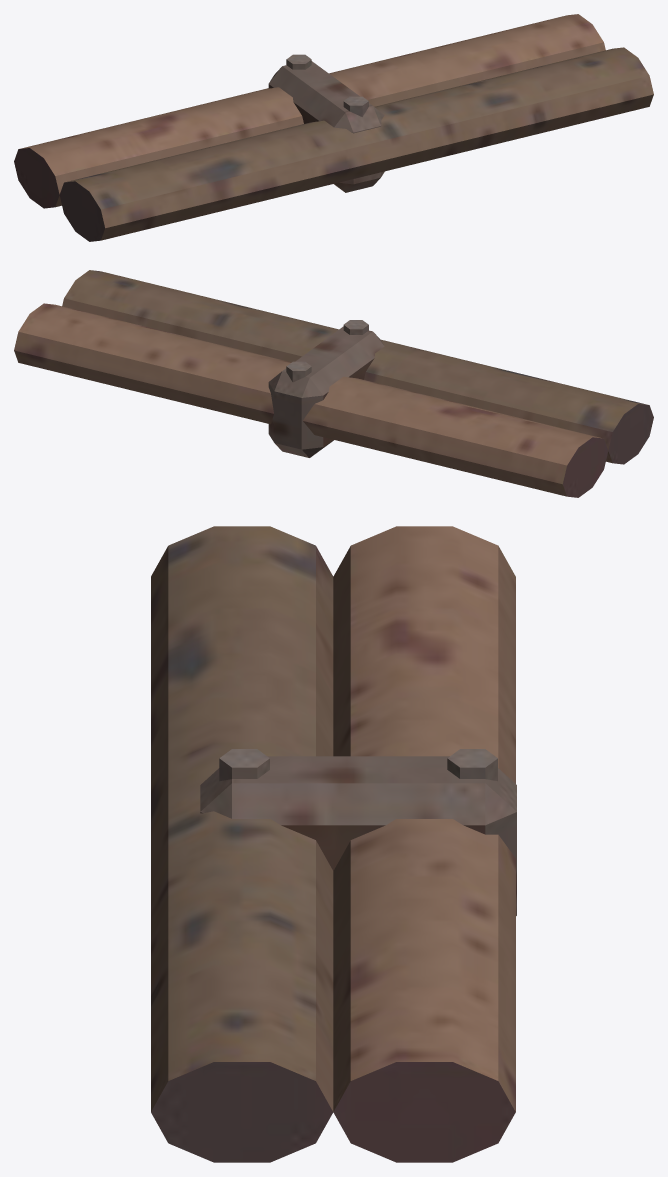
Rendered from heat-pipe-straight-horizontal.glb.
3 views of the same model, one above another, from view 1: azimuth 30°, elevation 25°; view 2: azimuth 150°, elevation 25°; view 3: azimuth 270°, elevation 25° (orthographic). The views are drawn at different scales.
Visible parts, largest first — view 1: body; view 2: body; view 3: body.
Part boxes in pixels (x1=…): body: x1=14, y1=14, x2=653, y2=241; body: x1=14, y1=270, x2=653, y2=497; body: x1=151, y1=526, x2=516, y2=1162.
Size of the model in its own units: 1 by 0.15 by 0.289.
1 material, 1 textured.
